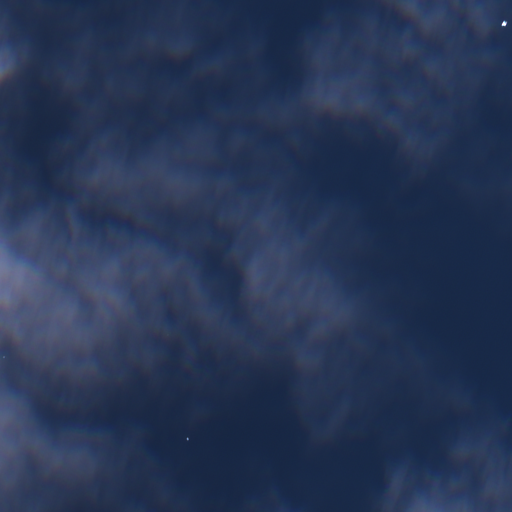Iceberg: (501, 20, 507, 26), (186, 437, 188, 440), (3, 356, 4, 357)
